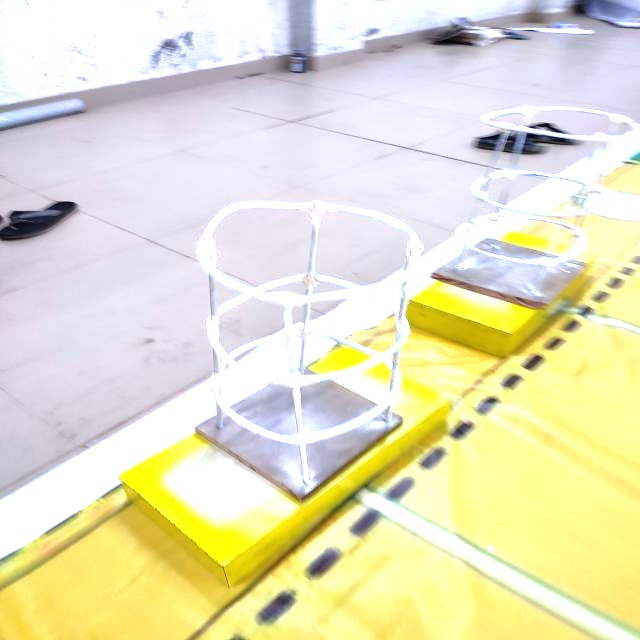silo: (178, 180, 426, 484), (438, 74, 636, 319)
